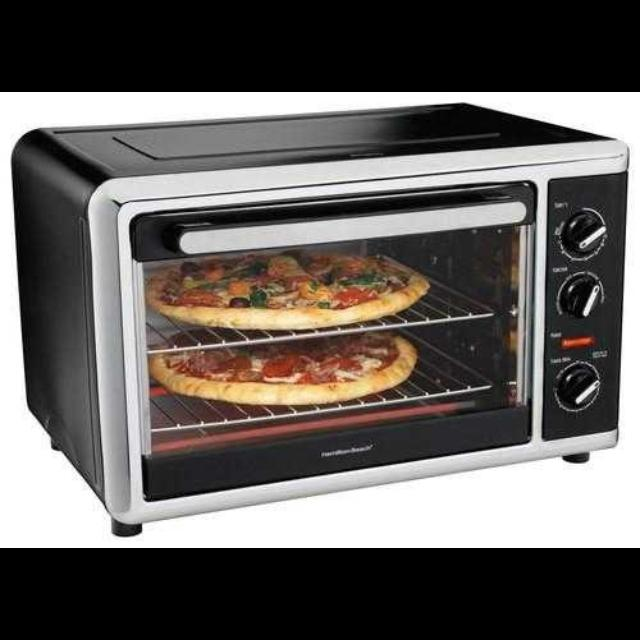Oven: (50, 123, 614, 507)
